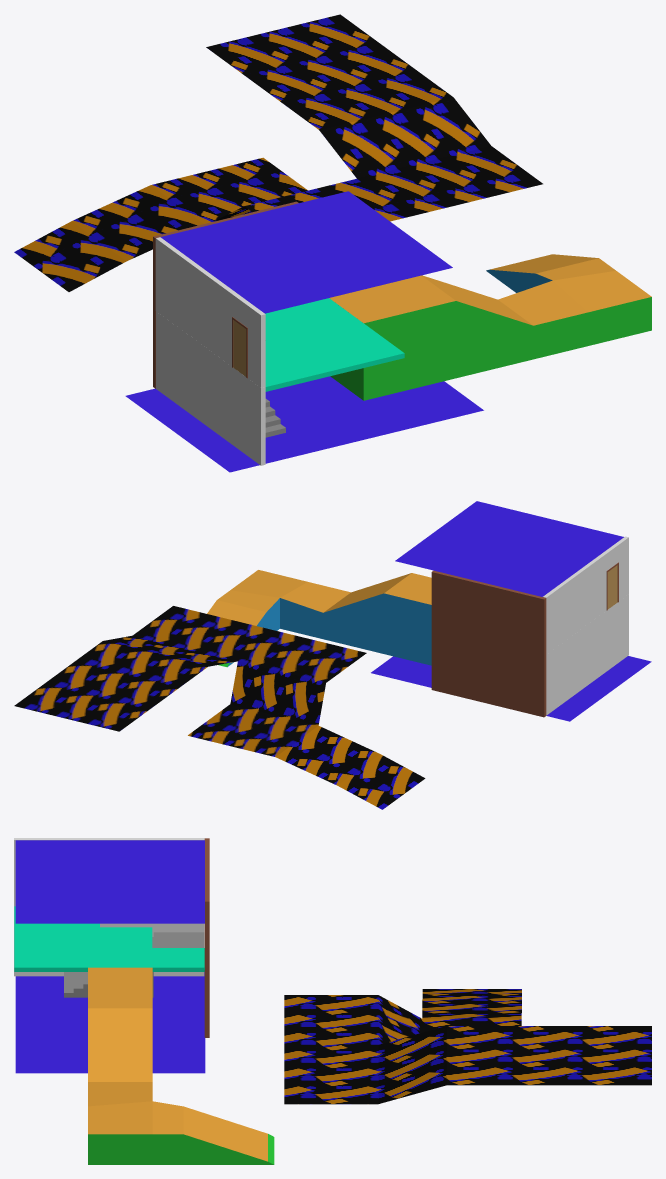
File: rooms.glb
The picture shows the model from 3 angles, top to bottom: view 1: azimuth 30°, elevation 25°; view 2: azimuth 150°, elevation 25°; view 3: azimuth 270°, elevation 25°; orthographic projection. The views are drawn at different scales.
Parts seen in each view (by area): view 1: Plane, Cube, roof, floor, wall1, floor-2, wall1f2, wall2, door; view 2: Plane, wall2, Cube, roof, wall1, wall1f2, floor; view 3: Plane, Cube, roof, floor, floor-2, stair, wall1, wall2, wall1f2.
Boxes of the visible parts, box(x1,y1,x2,y2) form: Plane: box(14, 14, 542, 291); Cube: box(329, 254, 651, 400); roof: box(160, 191, 452, 313); floor: box(125, 376, 483, 472); wall1: box(156, 311, 265, 465); floor-2: box(265, 298, 404, 391); wall1f2: box(155, 237, 265, 387); wall2: box(153, 201, 298, 388); door: box(233, 320, 246, 376); Plane: box(14, 606, 425, 809); wall2: box(431, 570, 546, 717); Cube: box(207, 570, 431, 667); roof: box(395, 501, 623, 596); wall1: box(546, 594, 628, 715); wall1f2: box(543, 536, 628, 654); floor: box(371, 656, 651, 721); Plane: box(284, 989, 651, 1104); Cube: box(88, 967, 274, 1164); roof: box(15, 840, 204, 923); floor: box(15, 972, 205, 1073); floor-2: box(14, 906, 204, 971); stair: box(64, 932, 204, 997); wall1: box(14, 906, 204, 976); wall2: box(204, 838, 209, 1037); wall1f2: box(14, 838, 204, 905).
Size of what is drawn, in the model's own units: 19.98 by 6.23 by 26.4.
9 materials, 1 textured.
